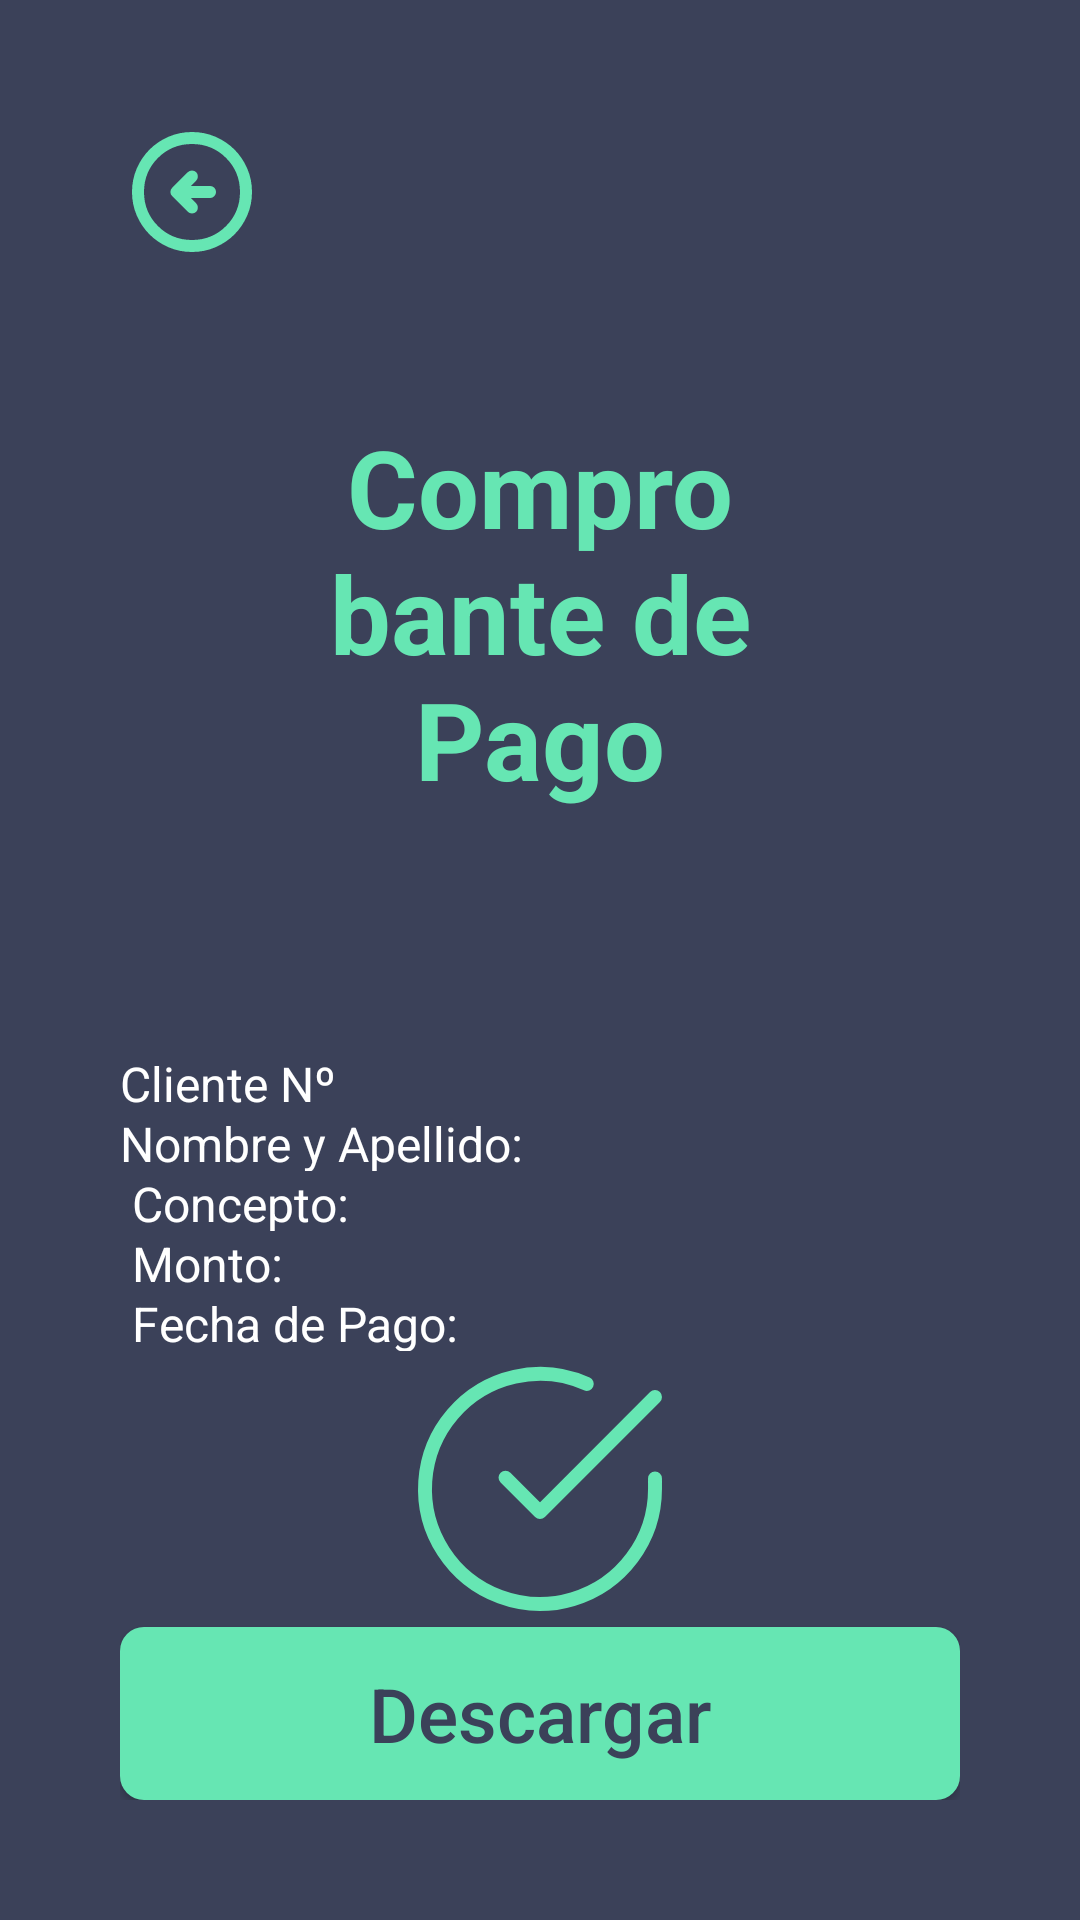

Locate icon controls on the screen. Image size 1080×1920, boxes as (x1,y1,x2,y2).
check circle: (418,1366,662,1611)
